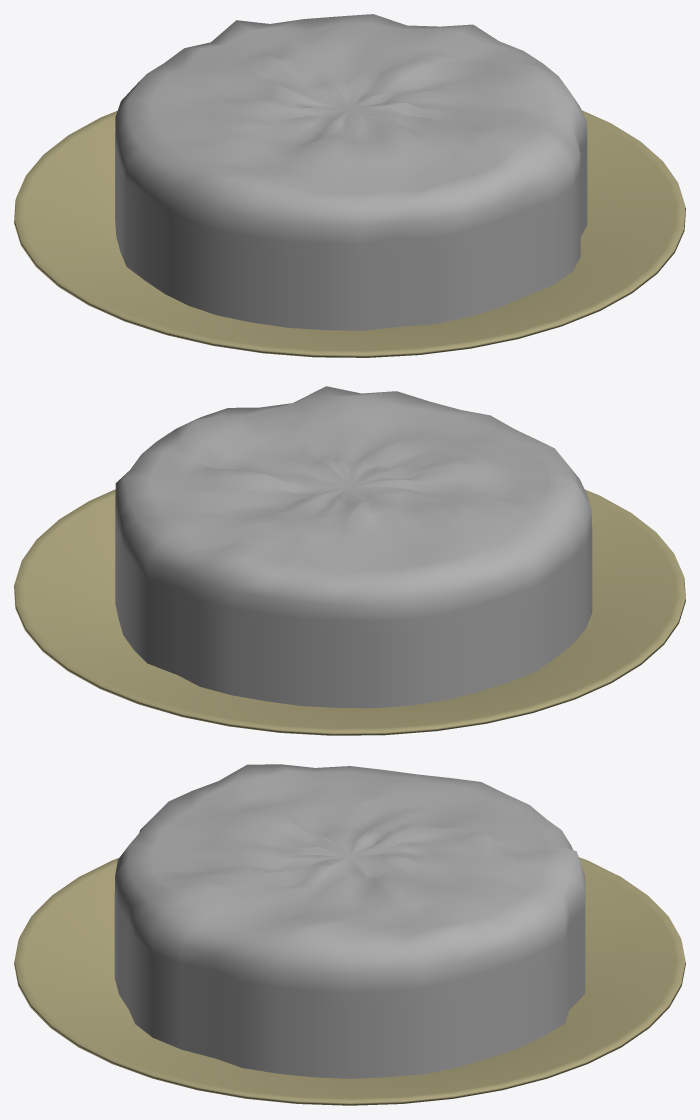
Rendered from mimoza.fbx.
The picture shows the model from 3 angles, top to bottom: view 1: azimuth 30°, elevation 25°; view 2: azimuth 150°, elevation 25°; view 3: azimuth 270°, elevation 25°; orthographic projection.
Visible parts, largest first — view 1: mimoza; view 2: mimoza; view 3: mimoza.
Boxes of the visible parts, x1,y1,x2,y2 form: mimoza: [14, 14, 685, 357]; mimoza: [14, 386, 685, 735]; mimoza: [14, 764, 685, 1105].
Size of the model in its own units: 1.12 by 0.3217 by 1.12.
